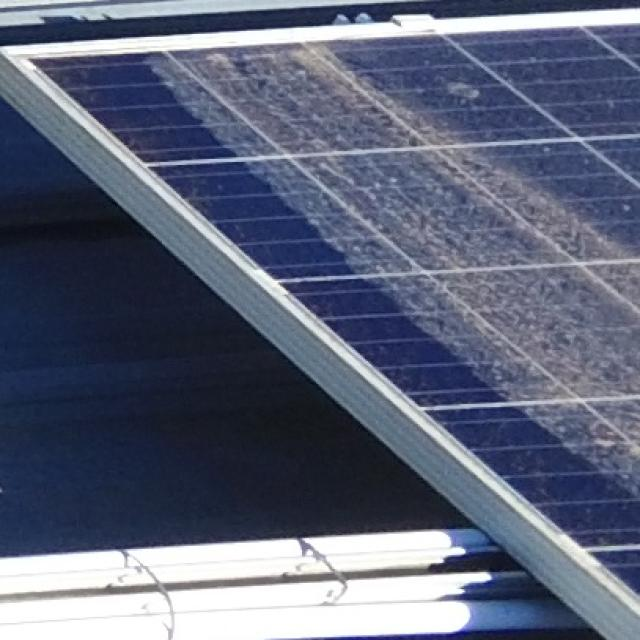Dust: (157, 40, 640, 487), (339, 116, 640, 419), (368, 278, 640, 490), (230, 150, 579, 266), (142, 47, 426, 141)
